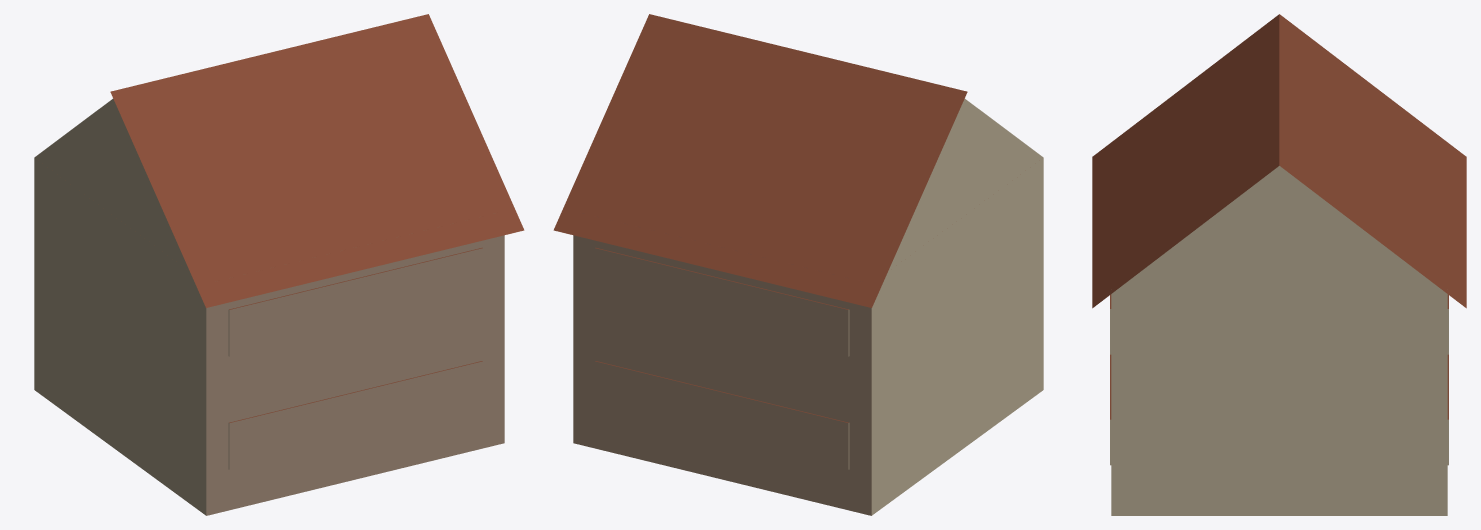
Rendered from bakery.far-facades-v3.lod2.glb.
The picture shows the model from 3 angles, left to right: view 1: azimuth 30°, elevation 25°; view 2: azimuth 150°, elevation 25°; view 3: azimuth 270°, elevation 25°; orthographic projection. The views are drawn at different scales.
Parts seen in each view (by area): view 1: bakery; view 2: bakery; view 3: bakery.
Boxes of the visible parts, x1,y1,x2,y2 form: bakery: [34, 14, 524, 515]; bakery: [553, 14, 1043, 515]; bakery: [1092, 14, 1466, 515].
Bounding box in the file's own units: 8.54 × 9.32 × 8.9.
